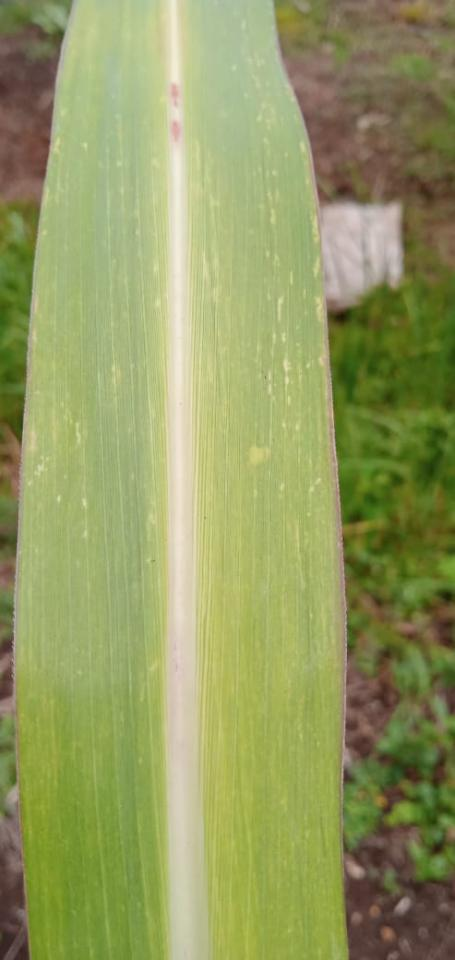RedRot: (170, 118, 180, 145), (169, 83, 179, 108)
